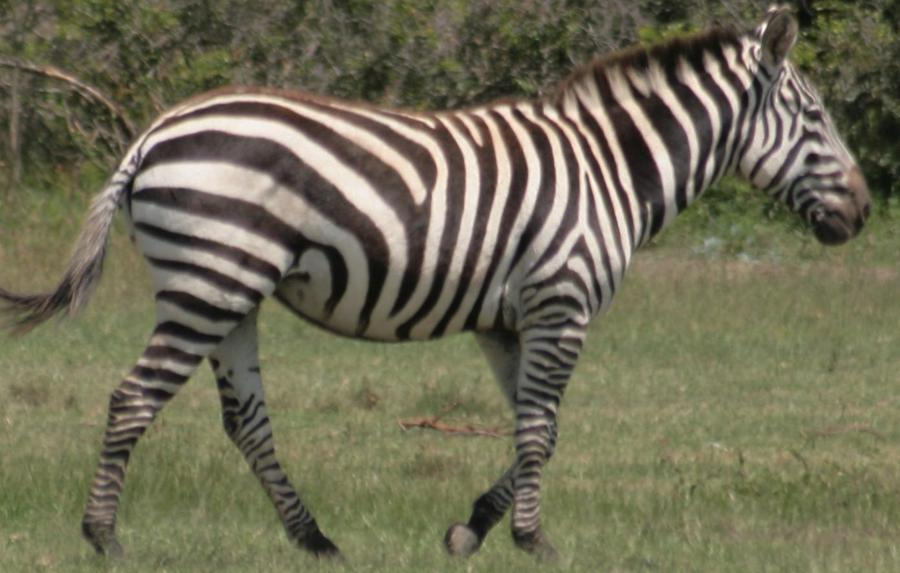zebra_plains: (121, 50, 653, 369)
